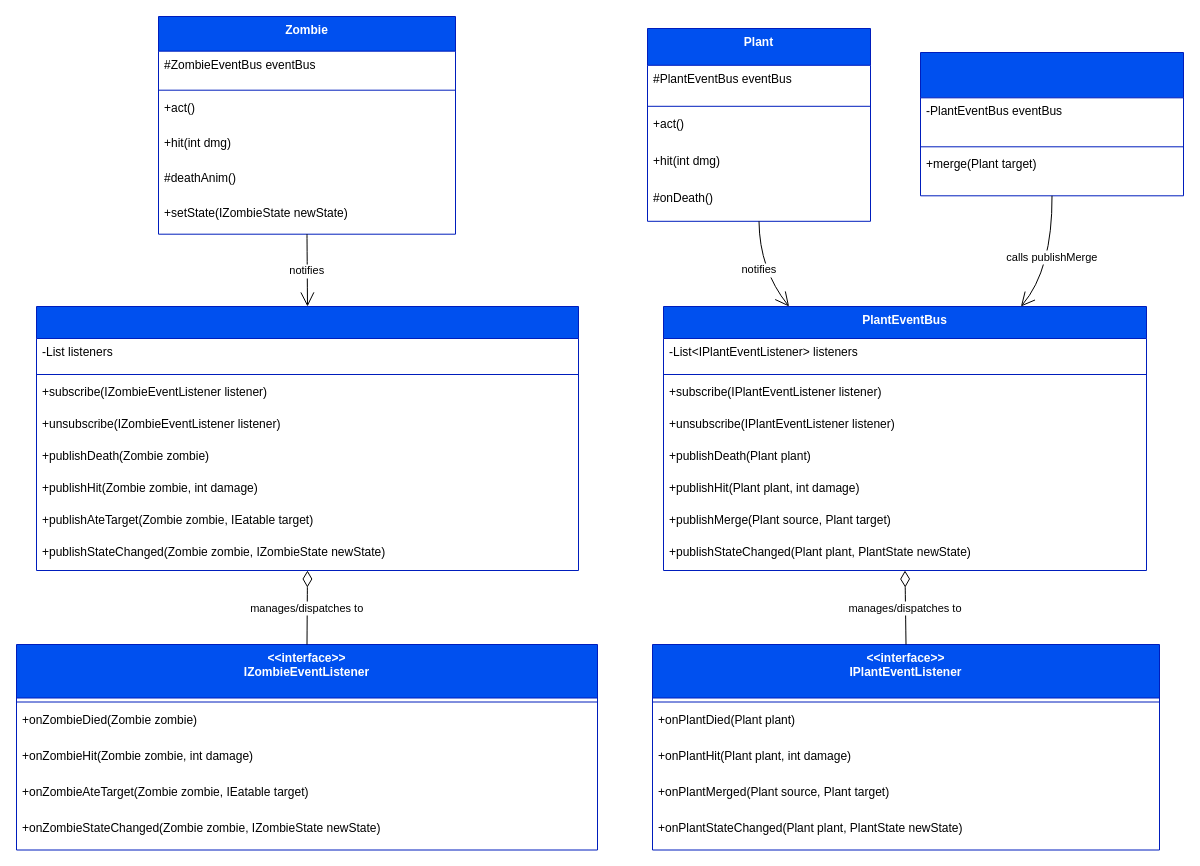
Some shapes in this 1200 by 866 pixel diagram are drawn without their labels. The shapes that lost their labels are listed below. From the top down, each one's box as (x1, y1, x2, y2) in pixels, then its label:
(920, 52, 1184, 196): UpgradeManager
(36, 306, 578, 570): ZombieEventBus
